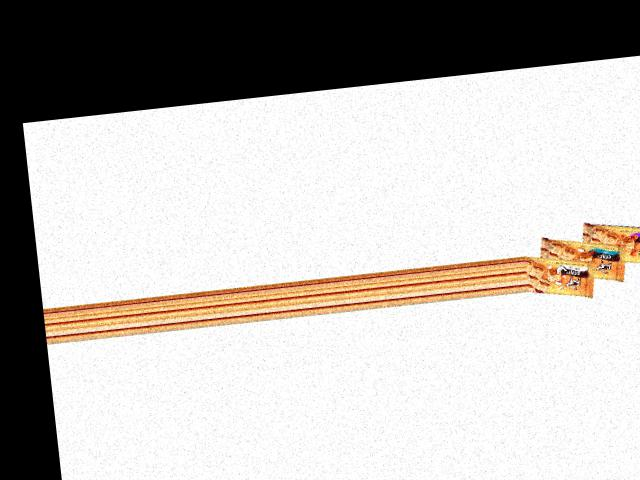chocolate: (574, 219, 640, 273)
